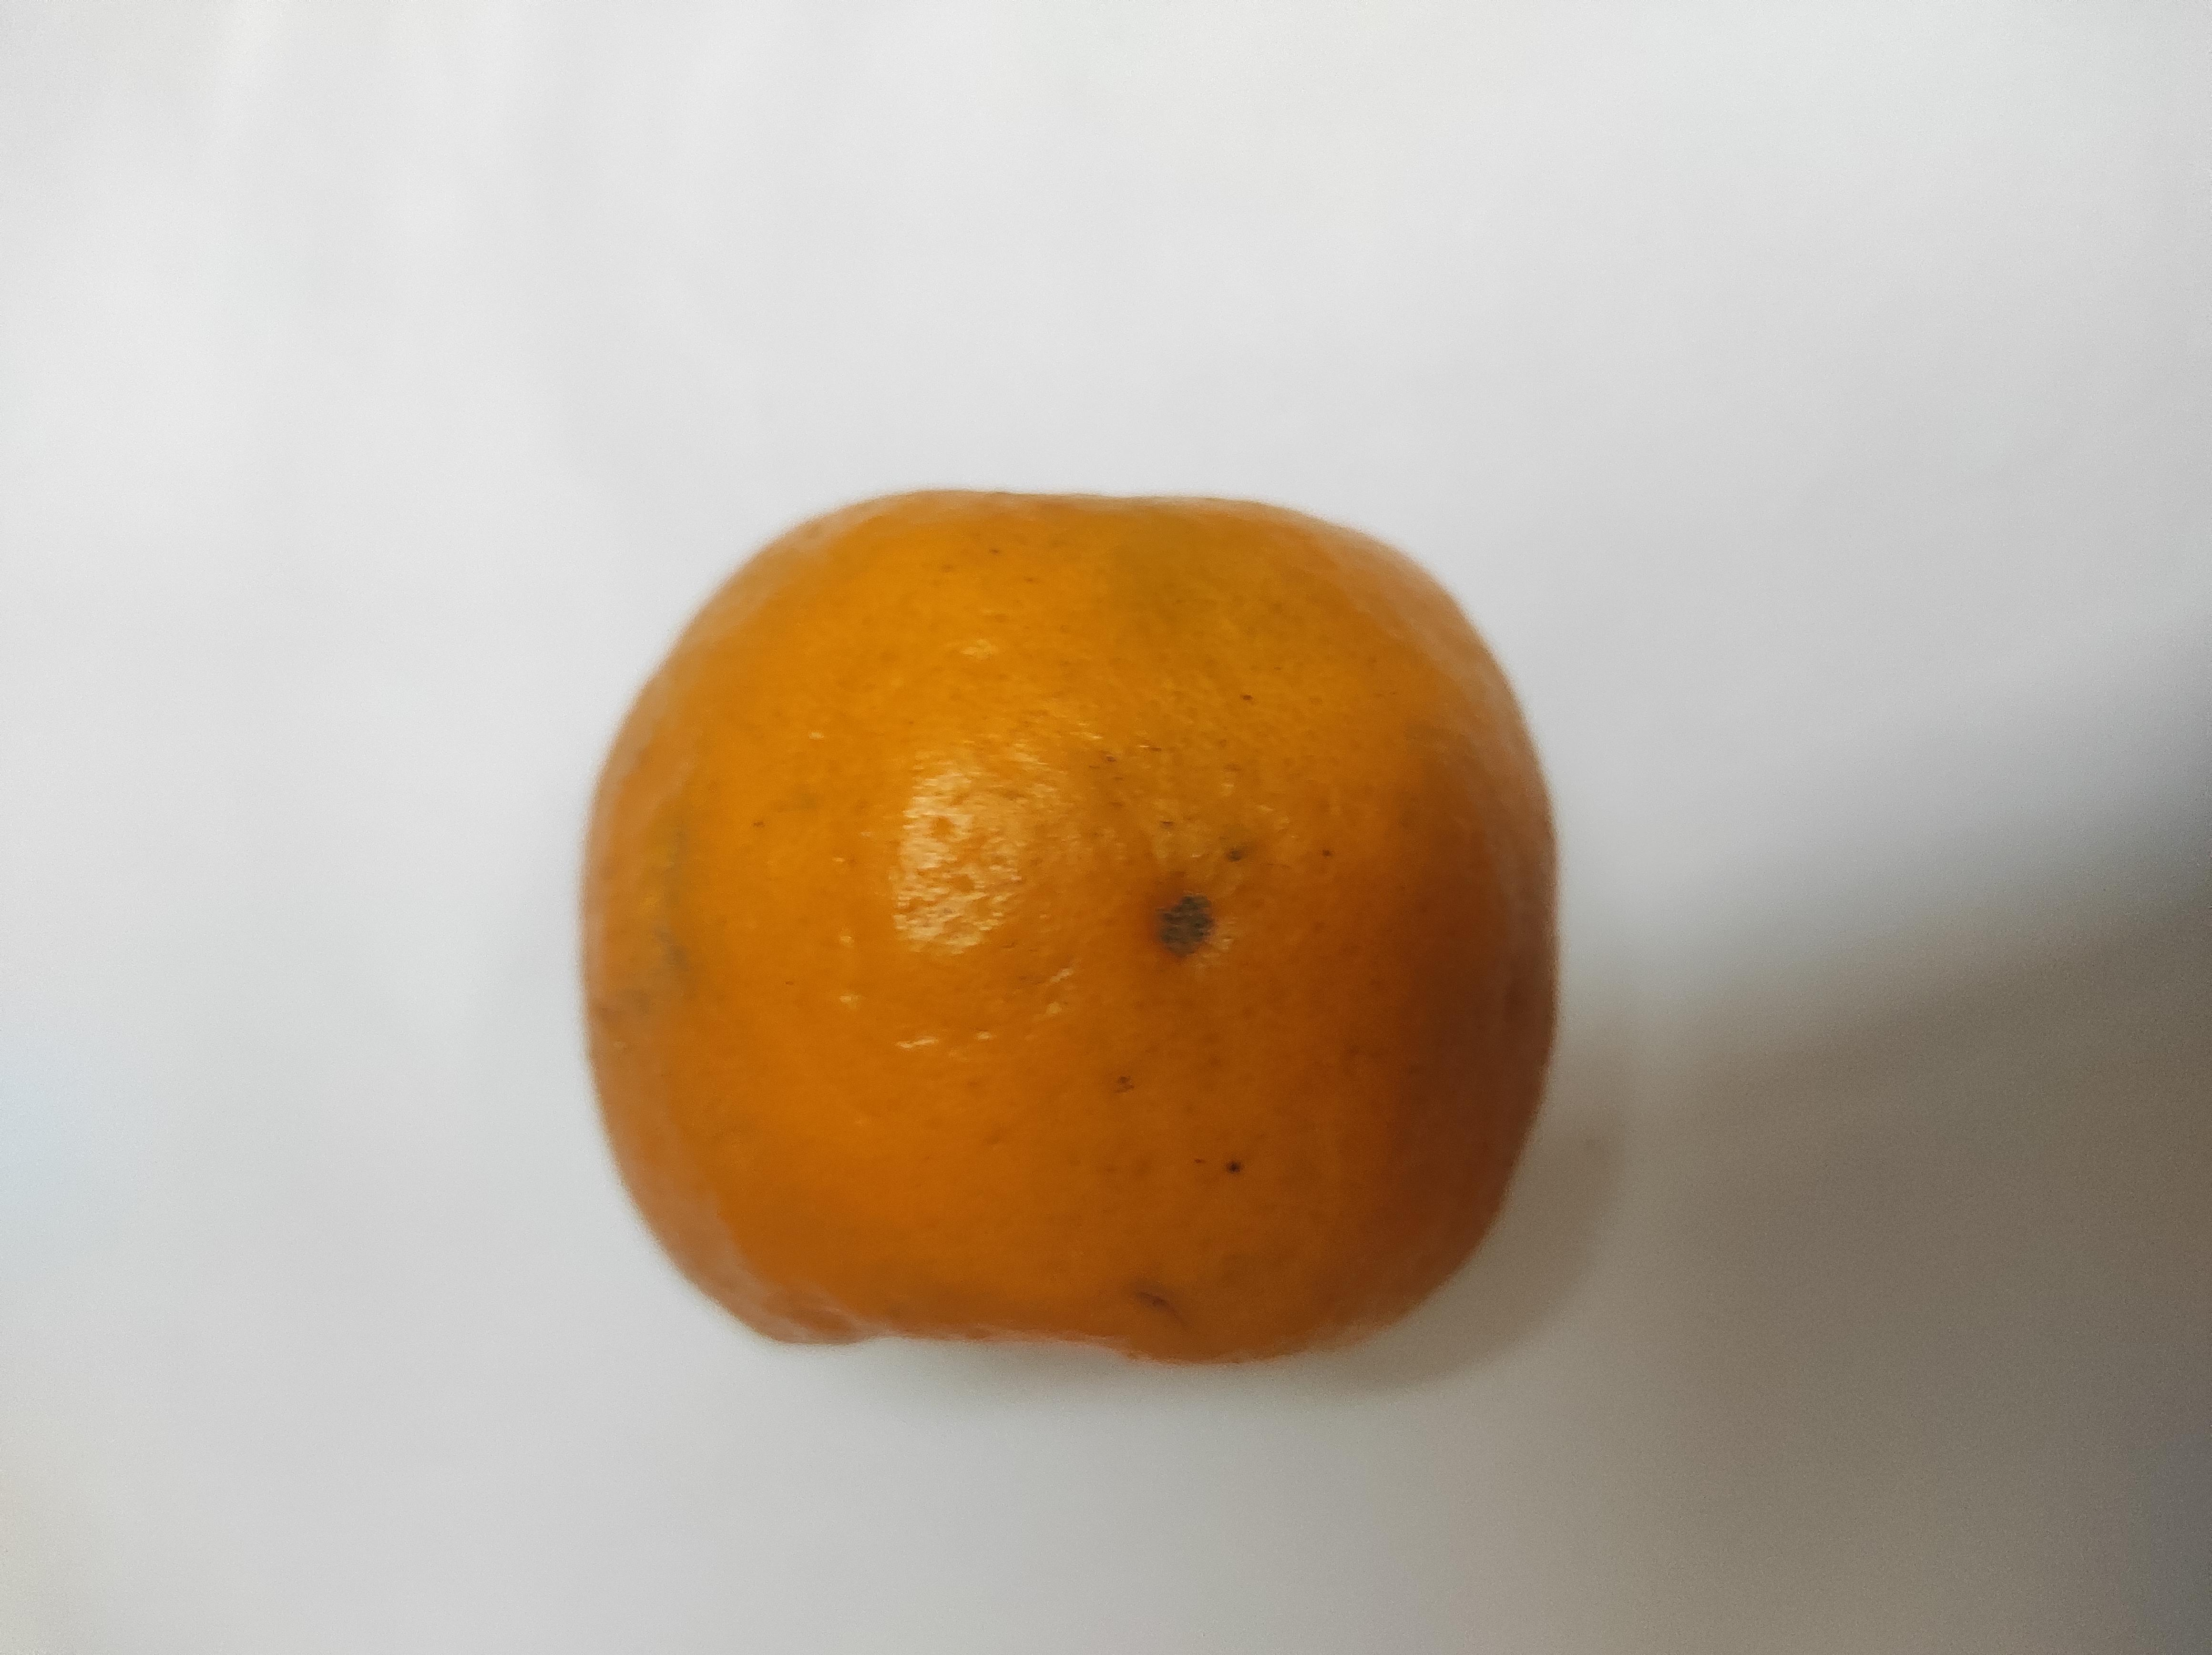Unripe: (583, 506, 1569, 1373)
